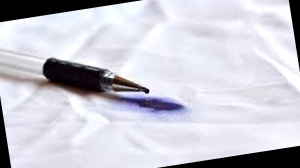ink: (128, 91, 185, 120)
